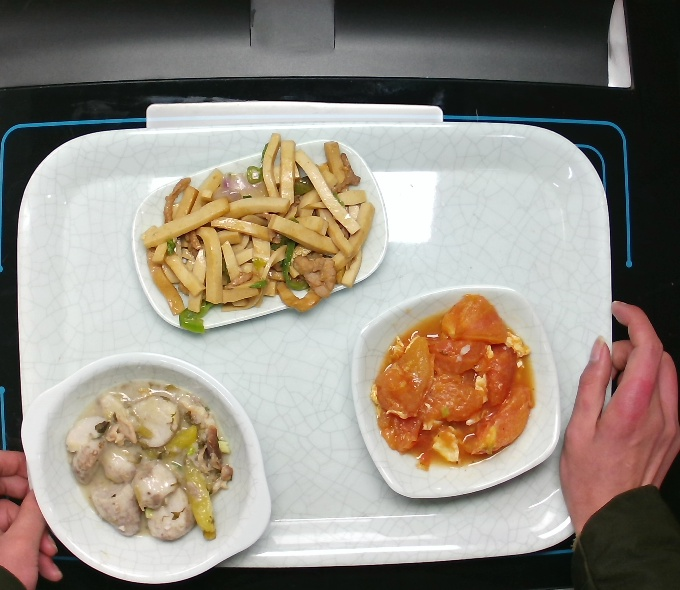wcq-FanQieChaoDan: (364, 294, 538, 470)
wcq-QianYeDouFu: (141, 135, 390, 329)
wcq-YangYu: (57, 380, 249, 553)
